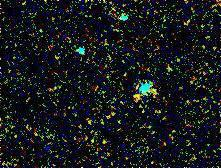star: (121, 82, 151, 112)
